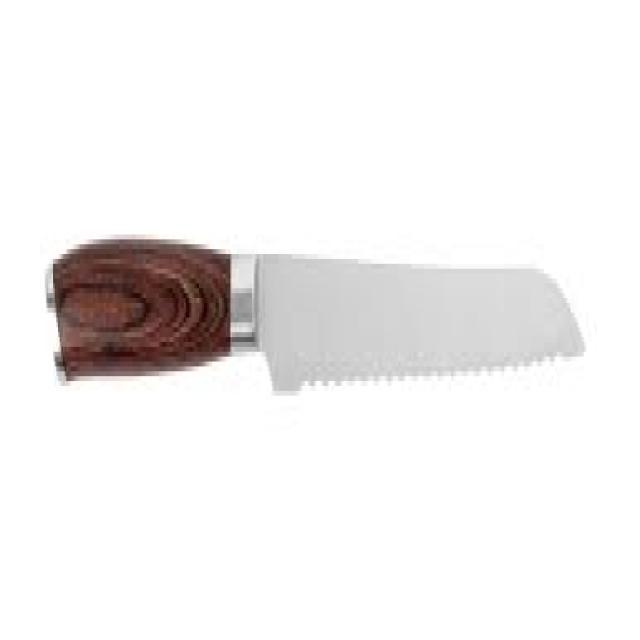Knife: (43, 235, 587, 391)
